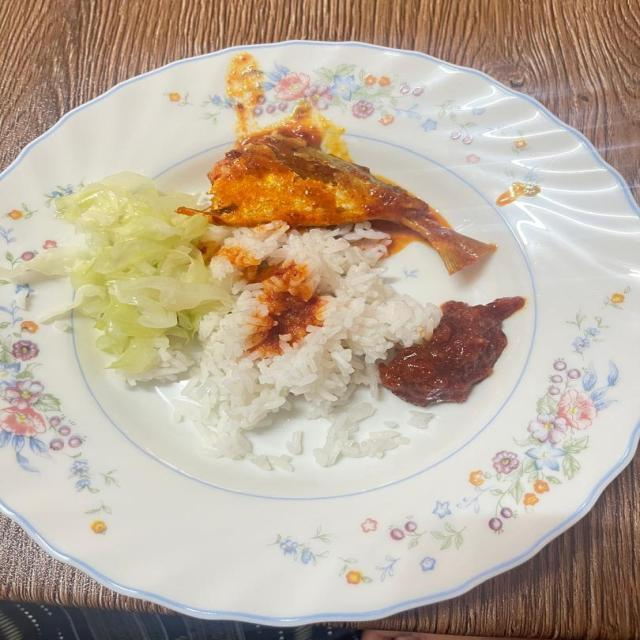Fish: (207, 129, 489, 277)
Plate: (0, 53, 639, 618), (0, 58, 246, 266)
Rice: (165, 226, 444, 482)
Vegetables: (10, 180, 235, 391)
